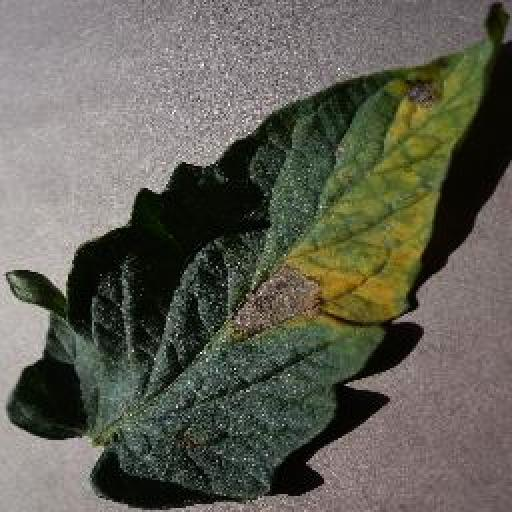disease_tomato: (2, 10, 512, 500)
